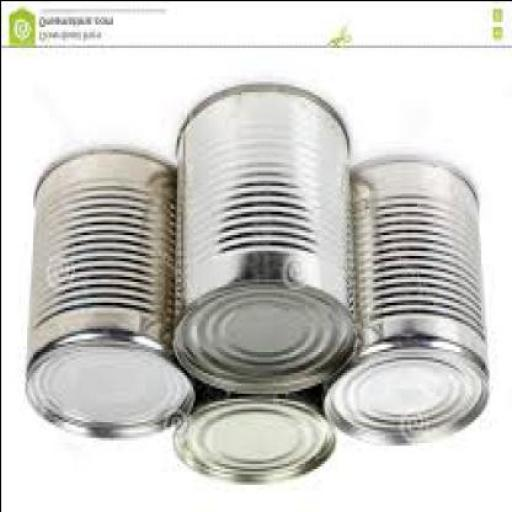metal: (170, 86, 349, 400), (318, 158, 488, 448), (24, 151, 193, 436), (168, 358, 334, 486)
